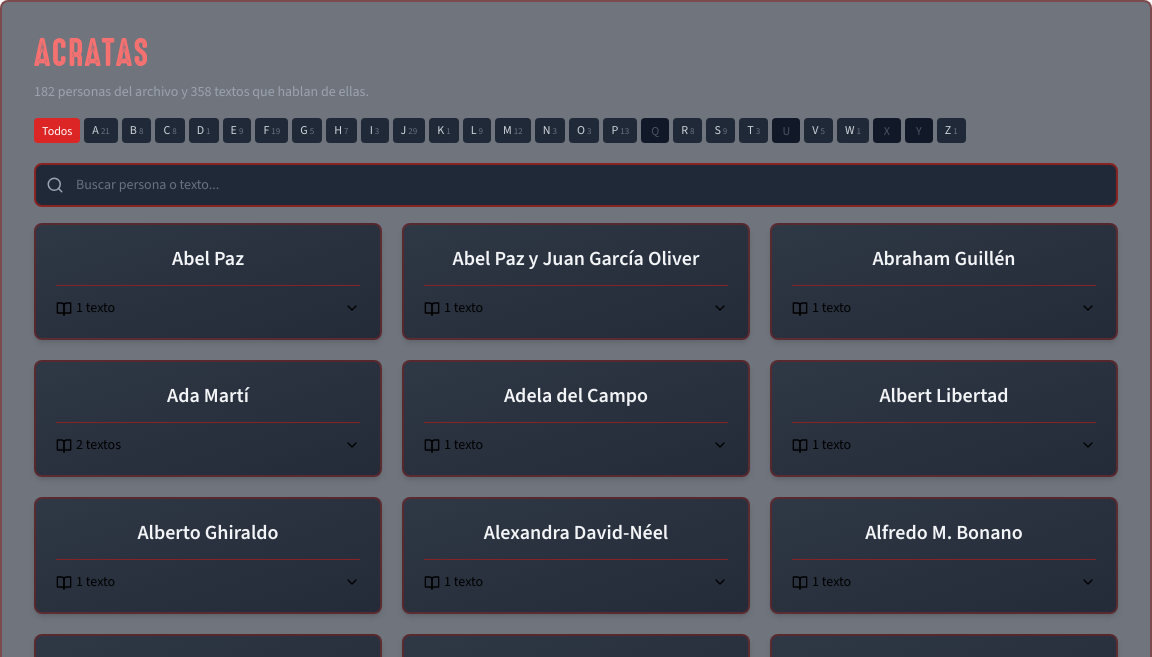
Test: AcratasView › filtra las personas por búsqueda
Expected: the heading "Abel Paz" is shown, [172, 245, 244, 272]
Type "Teresa Claramunt" into the field labelled "Buscar persona o texto..." at point(576, 185), box [34, 163, 1118, 207]
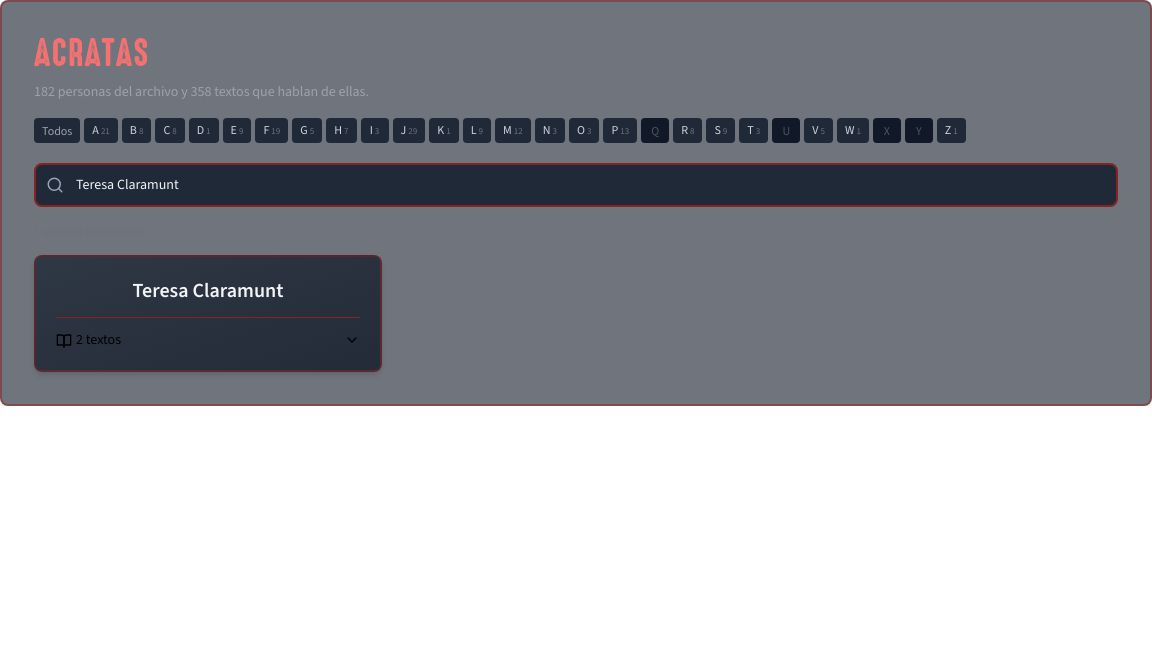
Now the heading "Teresa Claramunt" is shown, box [132, 277, 283, 304]
